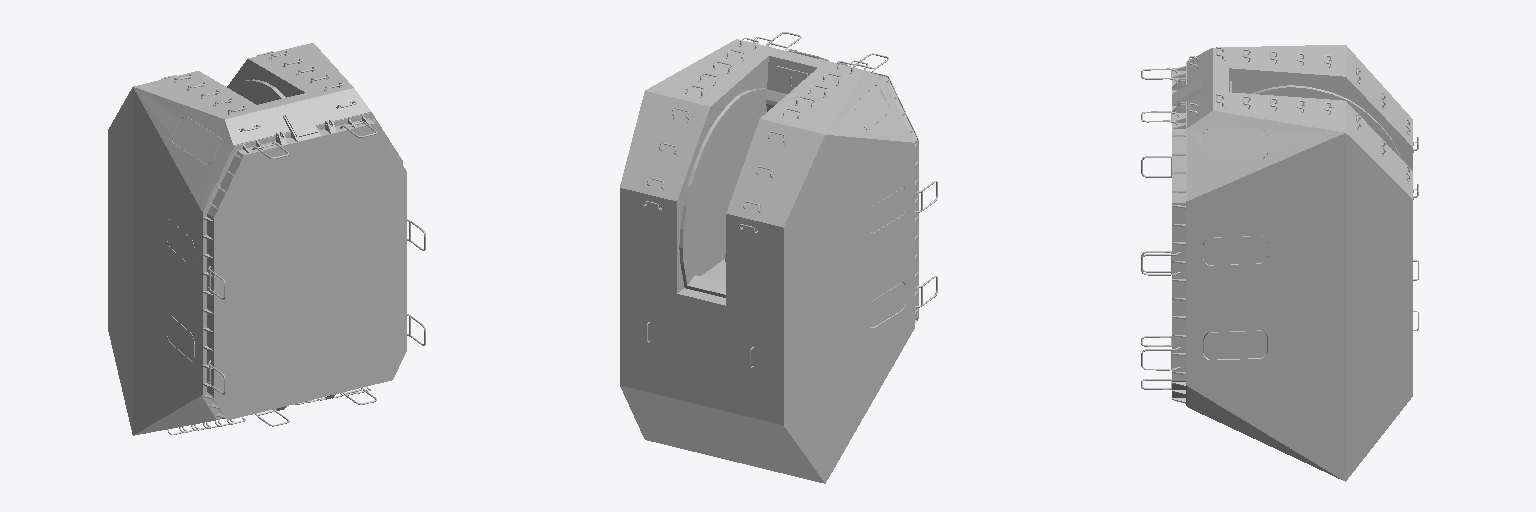
3 renders of one model, left to right at view 1: azimuth 30°, elevation 25°; view 2: azimuth 150°, elevation 25°; view 3: azimuth 270°, elevation 25°, orthographic.
Visible parts, largest first — view 1: rotate_z; view 2: rotate_z; view 3: rotate_z.
Boxes of the visible parts, x1,y1,x2,y2 form: rotate_z: [108, 43, 425, 435]; rotate_z: [620, 32, 937, 483]; rotate_z: [1141, 45, 1418, 481].
Bounding box in the file's own units: 1.28 × 2.21 × 1.53.